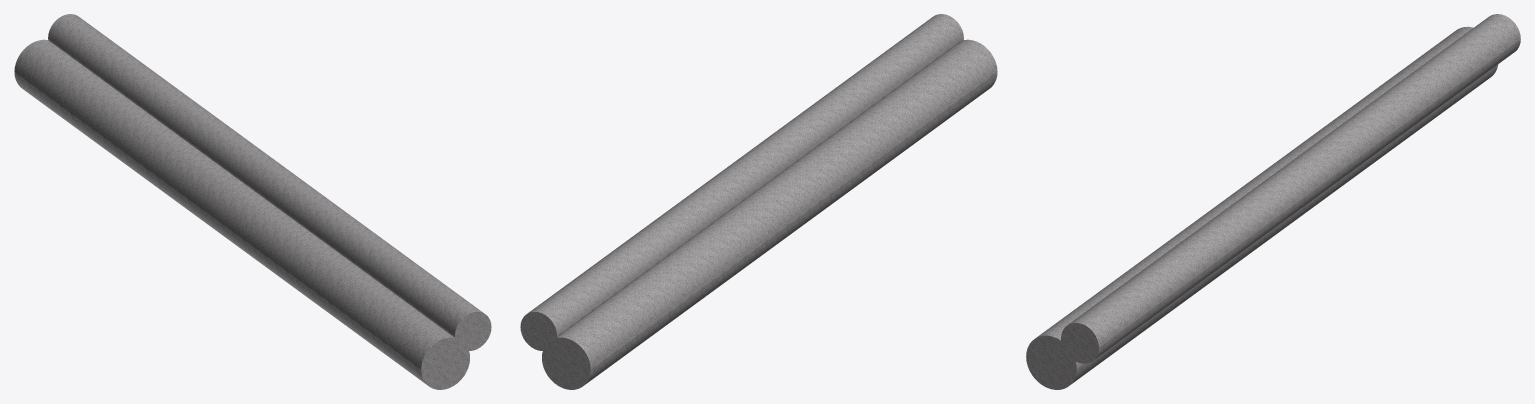
The picture shows the model from 3 angles, left to right: view 1: azimuth 30°, elevation 25°; view 2: azimuth 150°, elevation 25°; view 3: azimuth 330°, elevation 25°; orthographic projection. The views are drawn at different scales.
Parts seen in each view (by area): view 1: 0_0_2_2_2_3; view 2: 0_0_2_2_2_3; view 3: 0_0_2_2_2_3.
Boxes of the visible parts, bbox=[...] form: 0_0_2_2_2_3: bbox=[14, 14, 491, 389]; 0_0_2_2_2_3: bbox=[520, 14, 997, 389]; 0_0_2_2_2_3: bbox=[1026, 14, 1520, 389].
Size of the model in its own units: 1.15 by 1.1 by 11.53.
2 materials, 2 textured.
